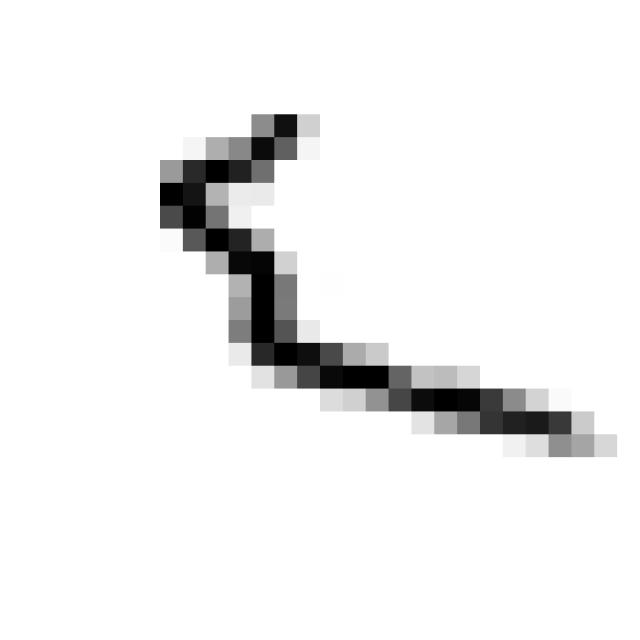4 -four-: (140, 96, 594, 466)
